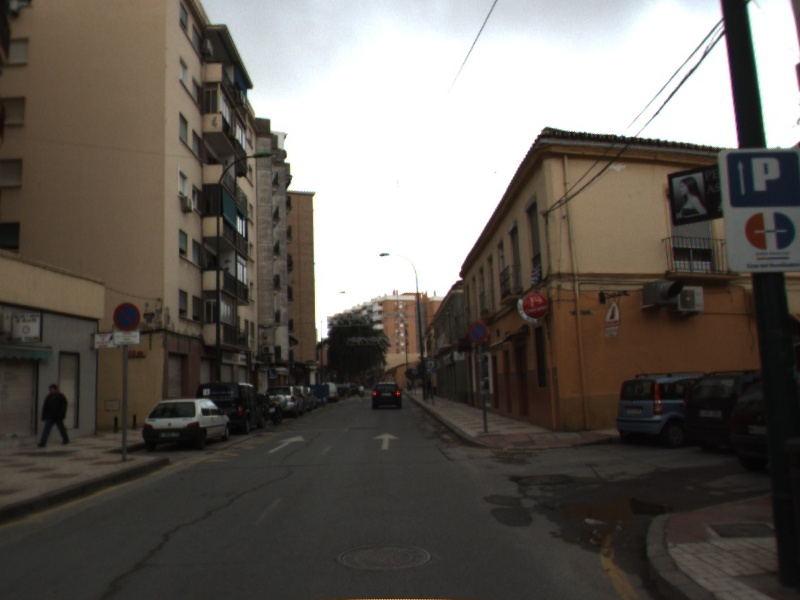STRAIGHT: (264, 433, 307, 456), (370, 430, 402, 451)
